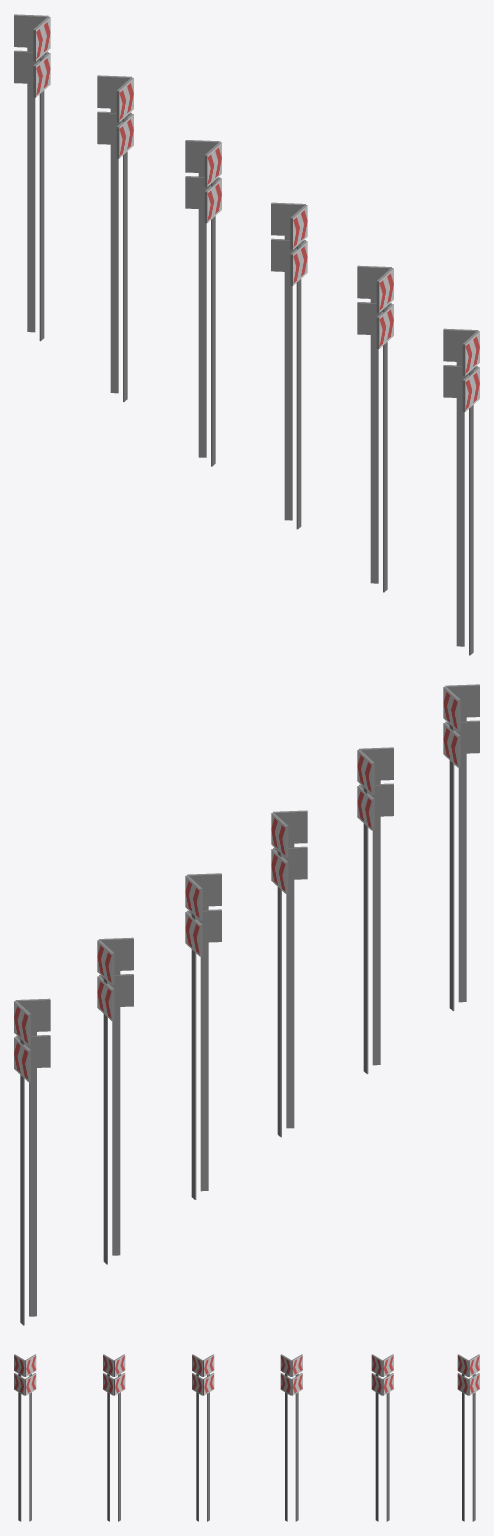
Rendered from road-signs.FBX.
The picture shows the model from 3 angles, top to bottom: view 1: azimuth 30°, elevation 25°; view 2: azimuth 150°, elevation 25°; view 3: azimuth 270°, elevation 25°; orthographic projection. The views are drawn at different scales.
Parts seen in each view (by area): view 1: metal_signs; view 2: metal_signs; view 3: metal_signs.
Boxes of the visible parts, box(x1,y1,x2,y2) form: metal_signs: box(14, 14, 479, 655); metal_signs: box(14, 684, 479, 1325); metal_signs: box(14, 1354, 479, 1521).
Bounding box in the file's own units: 17.35 × 201 × 520.
